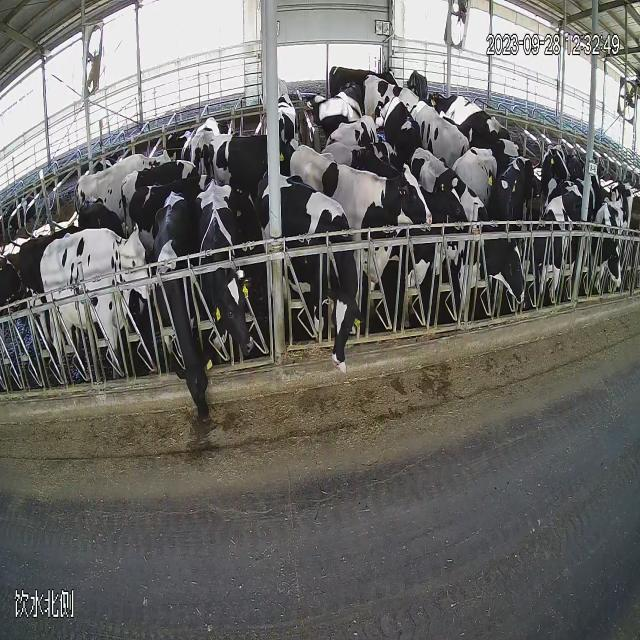feeding: (146, 177, 225, 436)
standing: (280, 132, 444, 344), (250, 162, 371, 380), (32, 216, 158, 394), (408, 138, 530, 314), (191, 172, 261, 370), (526, 171, 600, 320), (583, 166, 640, 314)
